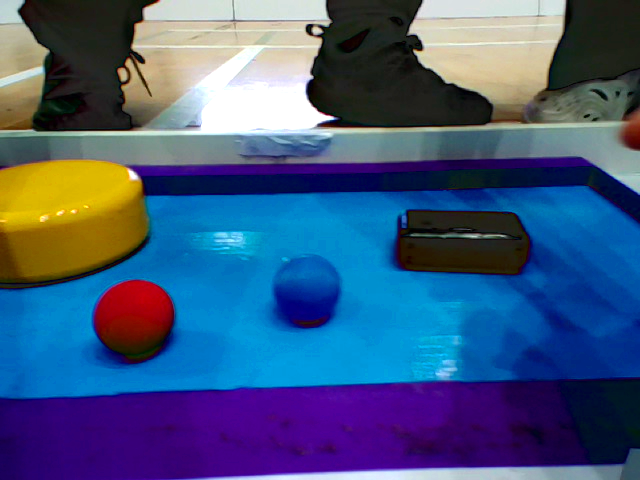black: (392, 206, 531, 275)
blue: (274, 251, 345, 331)
kuang: (2, 160, 640, 480)
red: (89, 277, 171, 362)
yellow: (1, 156, 162, 283)
